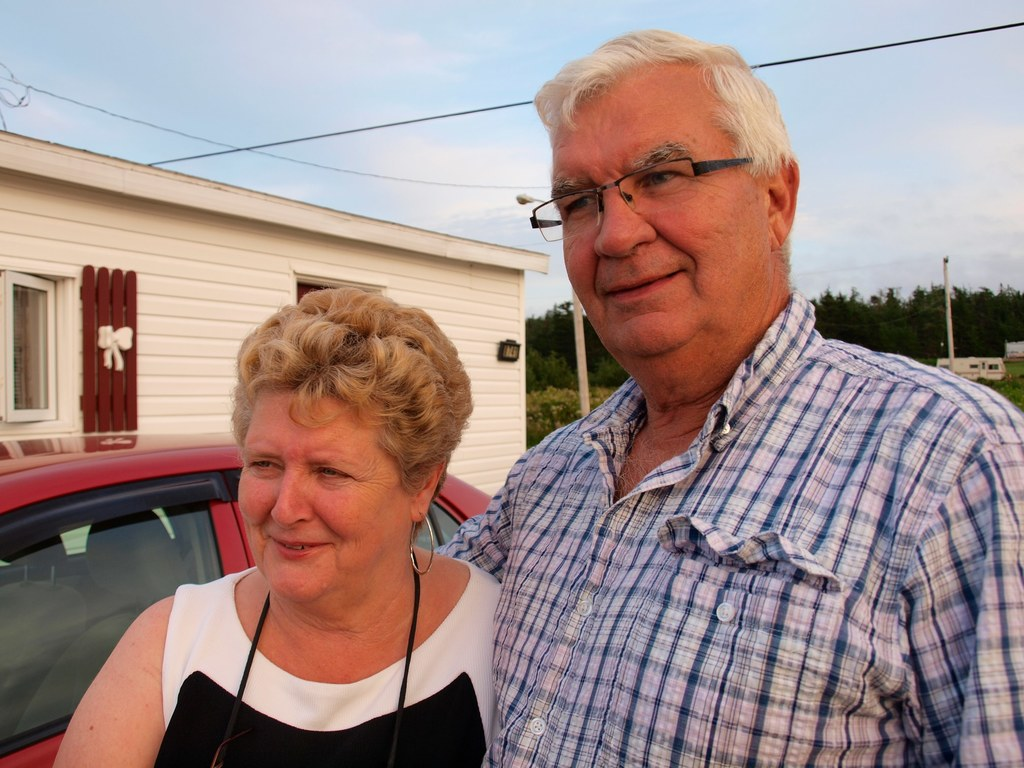Tree: (812, 279, 1023, 363), (524, 298, 640, 391)
